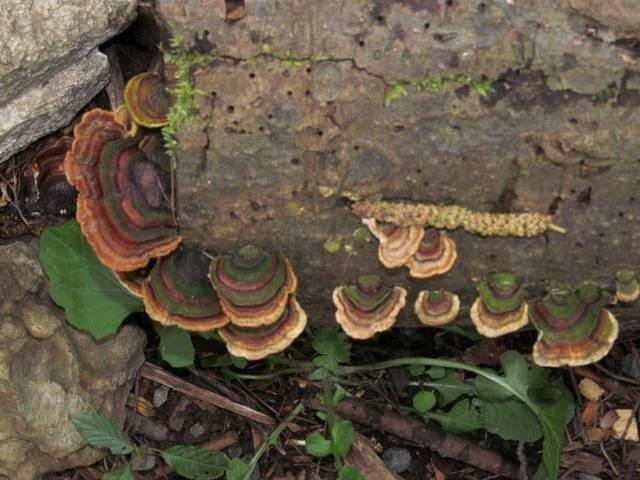Non-edible Mushroom: (59, 52, 220, 343), (351, 199, 462, 327), (206, 242, 307, 361), (527, 279, 619, 368), (331, 272, 407, 340), (468, 270, 529, 338)
